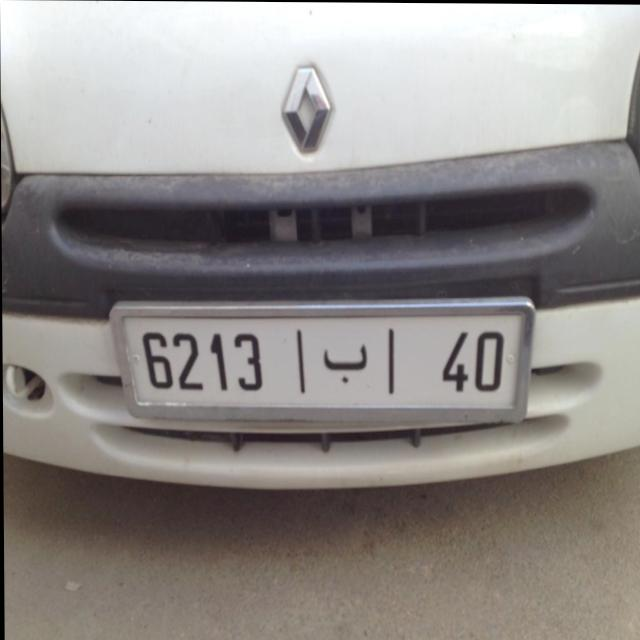License-Plate: (109, 298, 534, 425)
